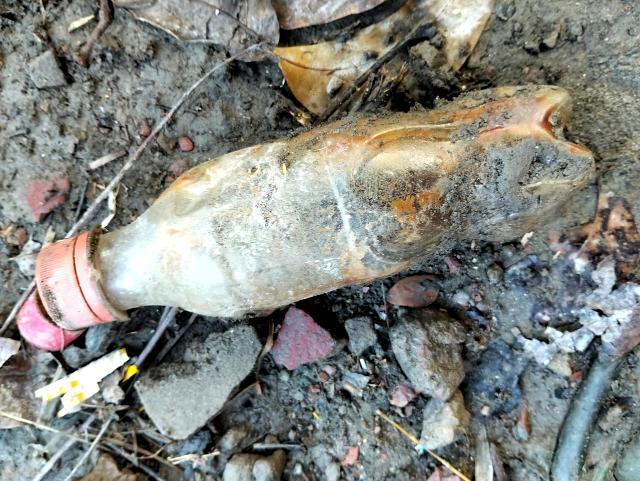bottle: (40, 62, 599, 357)
